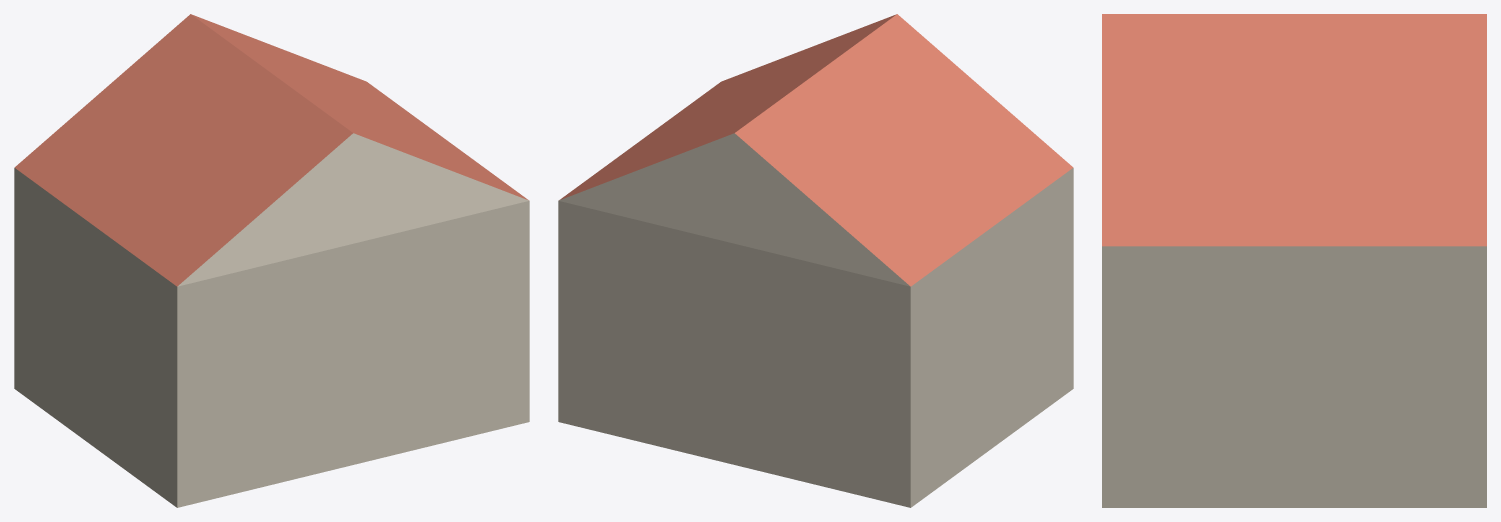
The model's file is smoke-room.glb.
The picture shows the model from 3 angles, left to right: view 1: azimuth 30°, elevation 25°; view 2: azimuth 150°, elevation 25°; view 3: azimuth 270°, elevation 25°; orthographic projection. The views are drawn at different scales.
Visible parts, largest first — view 1: house; view 2: house; view 3: house.
Part boxes in pixels (<box>): house: <box>14,14,529,507</box>; house: <box>558,14,1073,507</box>; house: <box>1102,14,1486,507</box>.
Size of the model in its own units: 10 by 9 by 8.
